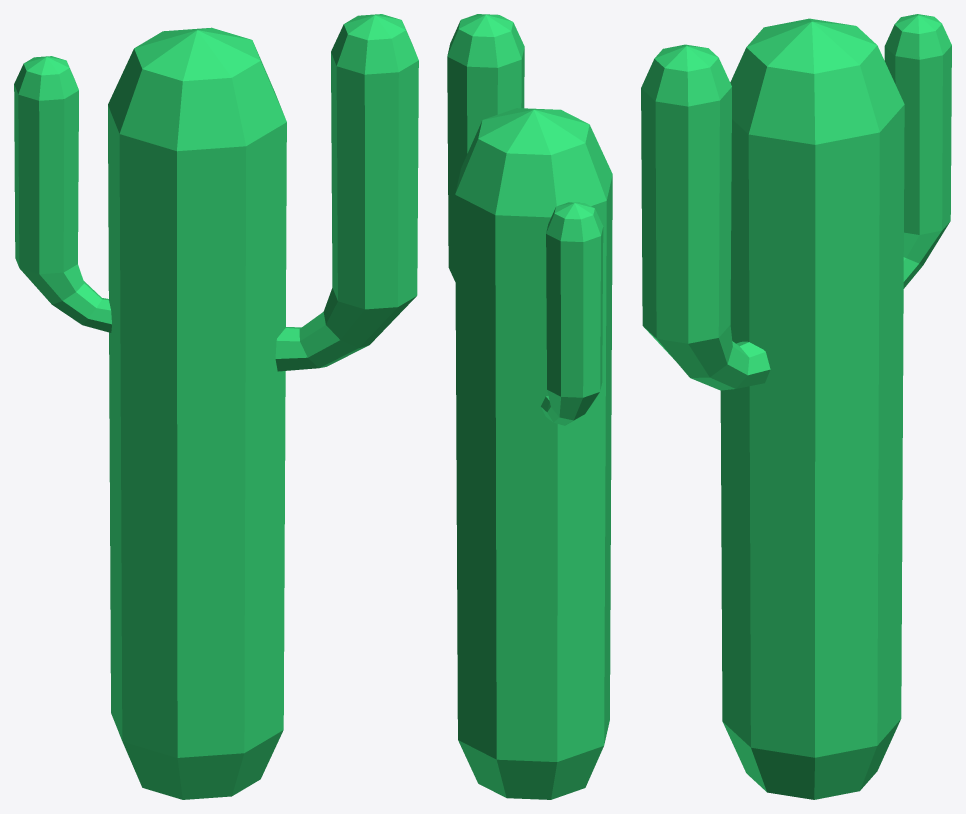
File: Cactus Large.fbx
3 renders of one model, left to right at view 1: azimuth 30°, elevation 25°; view 2: azimuth 150°, elevation 25°; view 3: azimuth 270°, elevation 25°, orthographic. The views are drawn at different scales.
Visible parts, largest first — view 1: Cactus; view 2: Cactus; view 3: Cactus.
Boxes of the visible parts, bbox=[...] form: Cactus: bbox=[14, 14, 418, 799]; Cactus: bbox=[447, 14, 612, 799]; Cactus: bbox=[641, 14, 951, 799].
Size of the model in its own units: 0.8988 by 2.44 by 0.8513.
